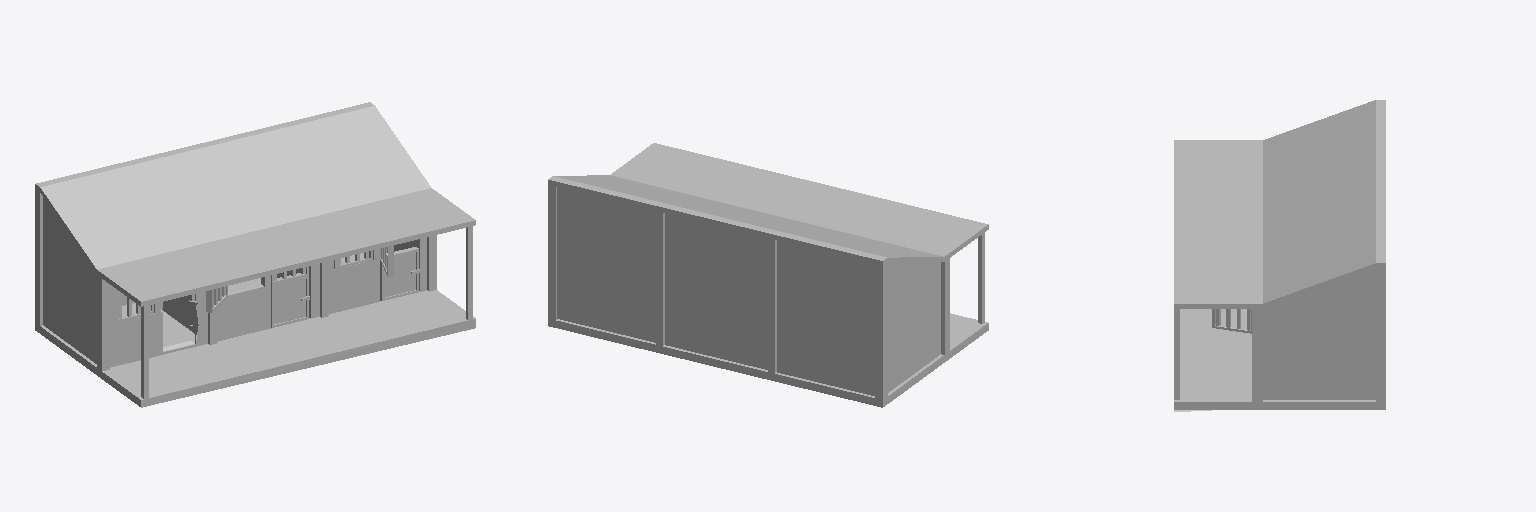
Rendered from house2.obj.
3 views of the same model, side by side, from view 1: azimuth 30°, elevation 25°; view 2: azimuth 150°, elevation 25°; view 3: azimuth 270°, elevation 25° (orthographic).
Parts seen in each view (by area): view 1: Plane01 Mesh; view 2: Plane01 Mesh; view 3: Plane01 Mesh.
Part boxes in pixels (x1,y1,x2,y2): Plane01 Mesh: (35,102,475,407); Plane01 Mesh: (548,143,988,407); Plane01 Mesh: (1174,100,1385,411).
Size of the model in its own units: 1020 by 432 by 557.